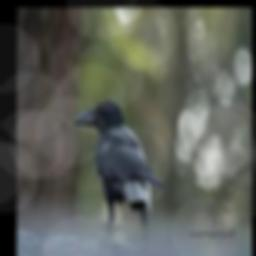Crow: (72, 100, 165, 245)
